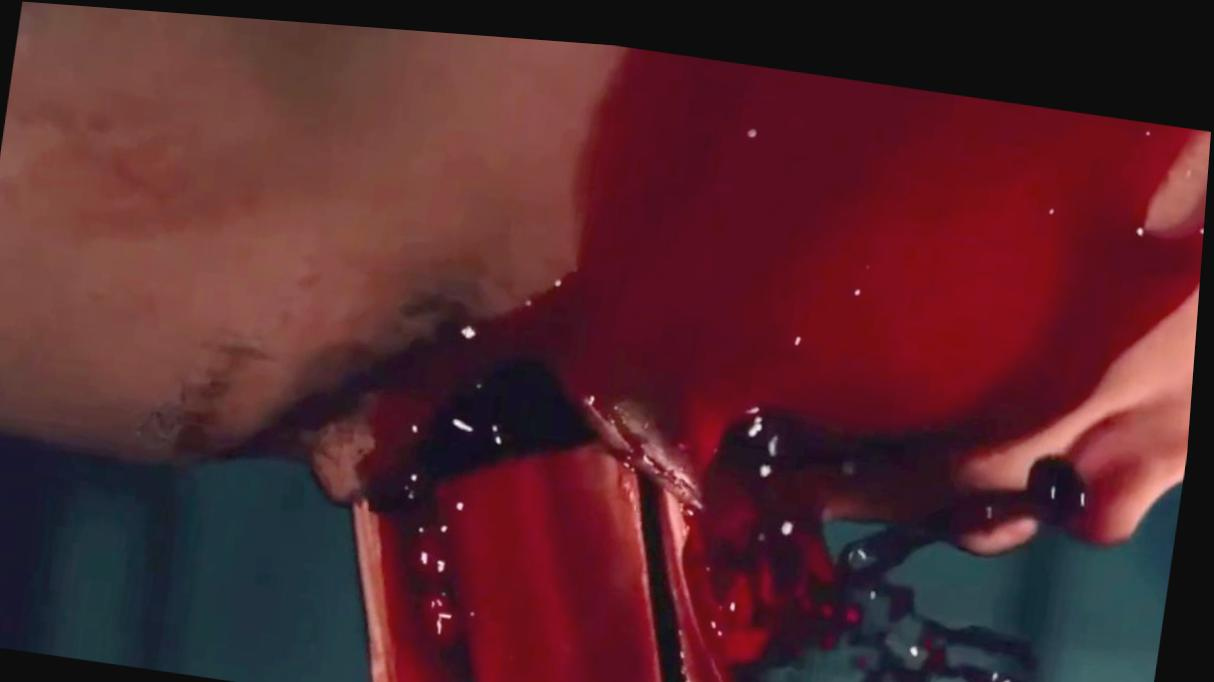Fire: (256, 36, 1212, 682)
